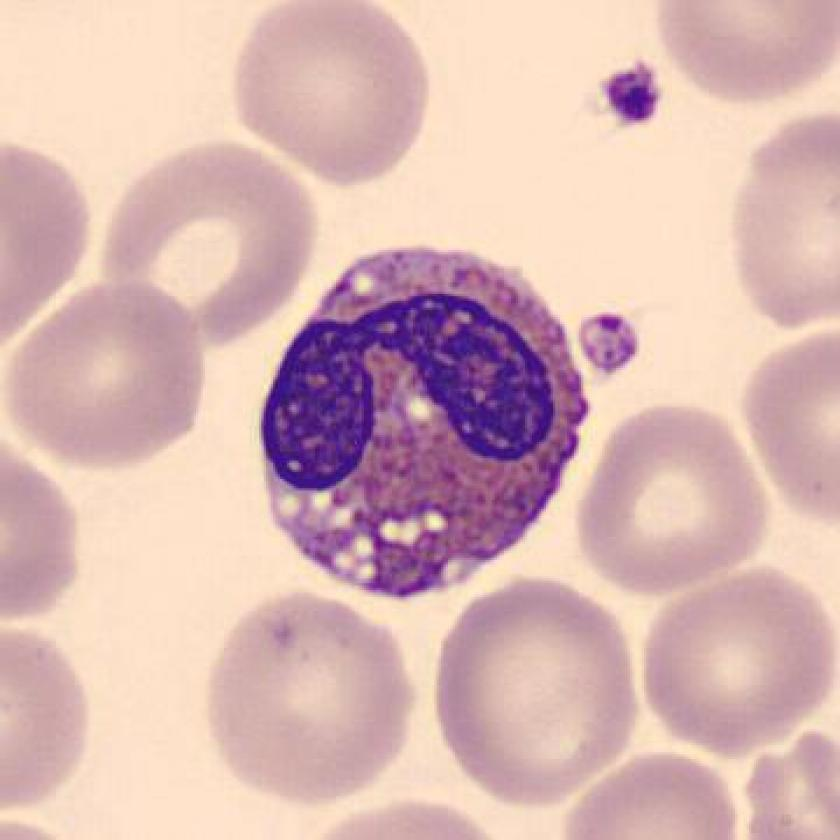eosinophil: (244, 228, 603, 614)
